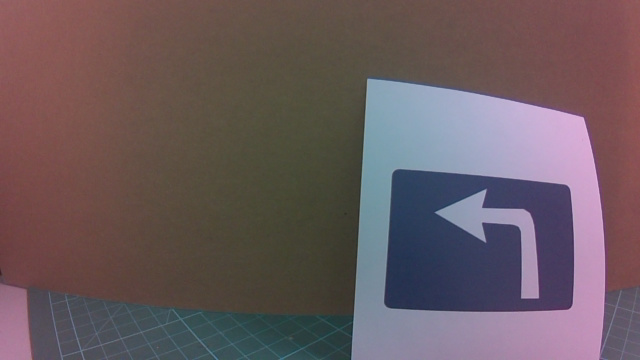left: (375, 158, 594, 329)
